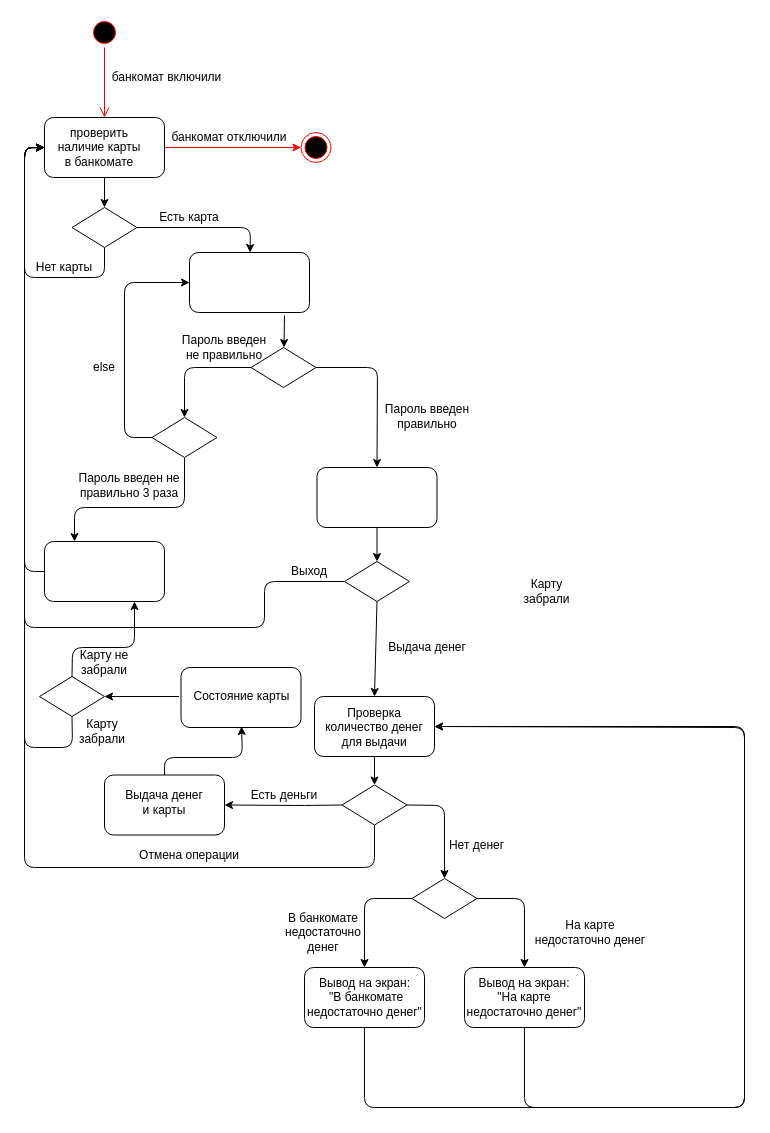
This 770x1133 diagram has some shape labels left out. Each missing label, with the box of its shape:
Выбор операции: (316, 466, 437, 528)
Зажевать карту: (44, 540, 164, 602)
Проверка на правильность введенного пароля: (188, 252, 310, 312)
